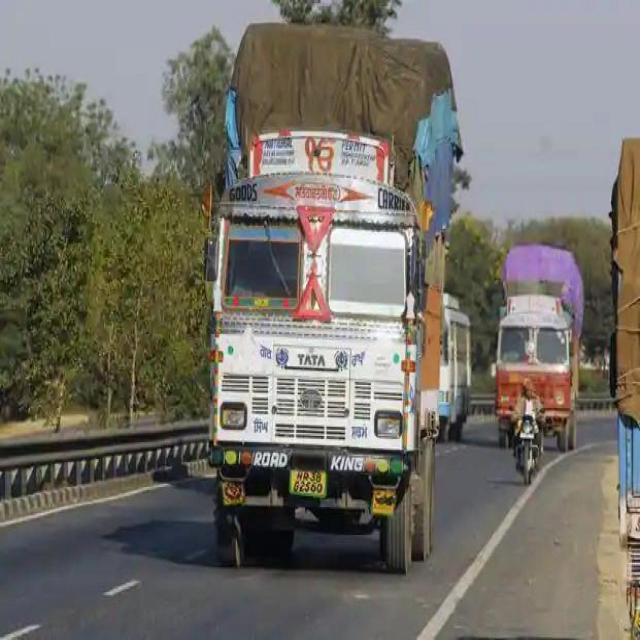Vehicles: (195, 7, 458, 585), (491, 227, 590, 456), (511, 411, 541, 481)
